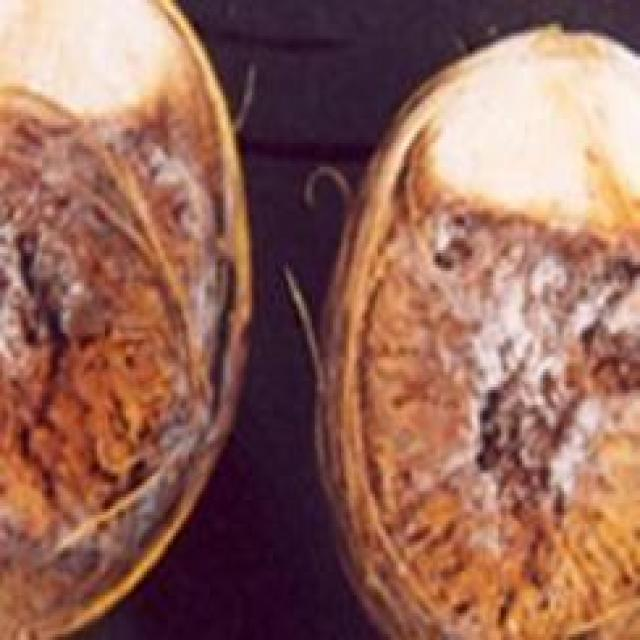damaged: (315, 24, 637, 634)
